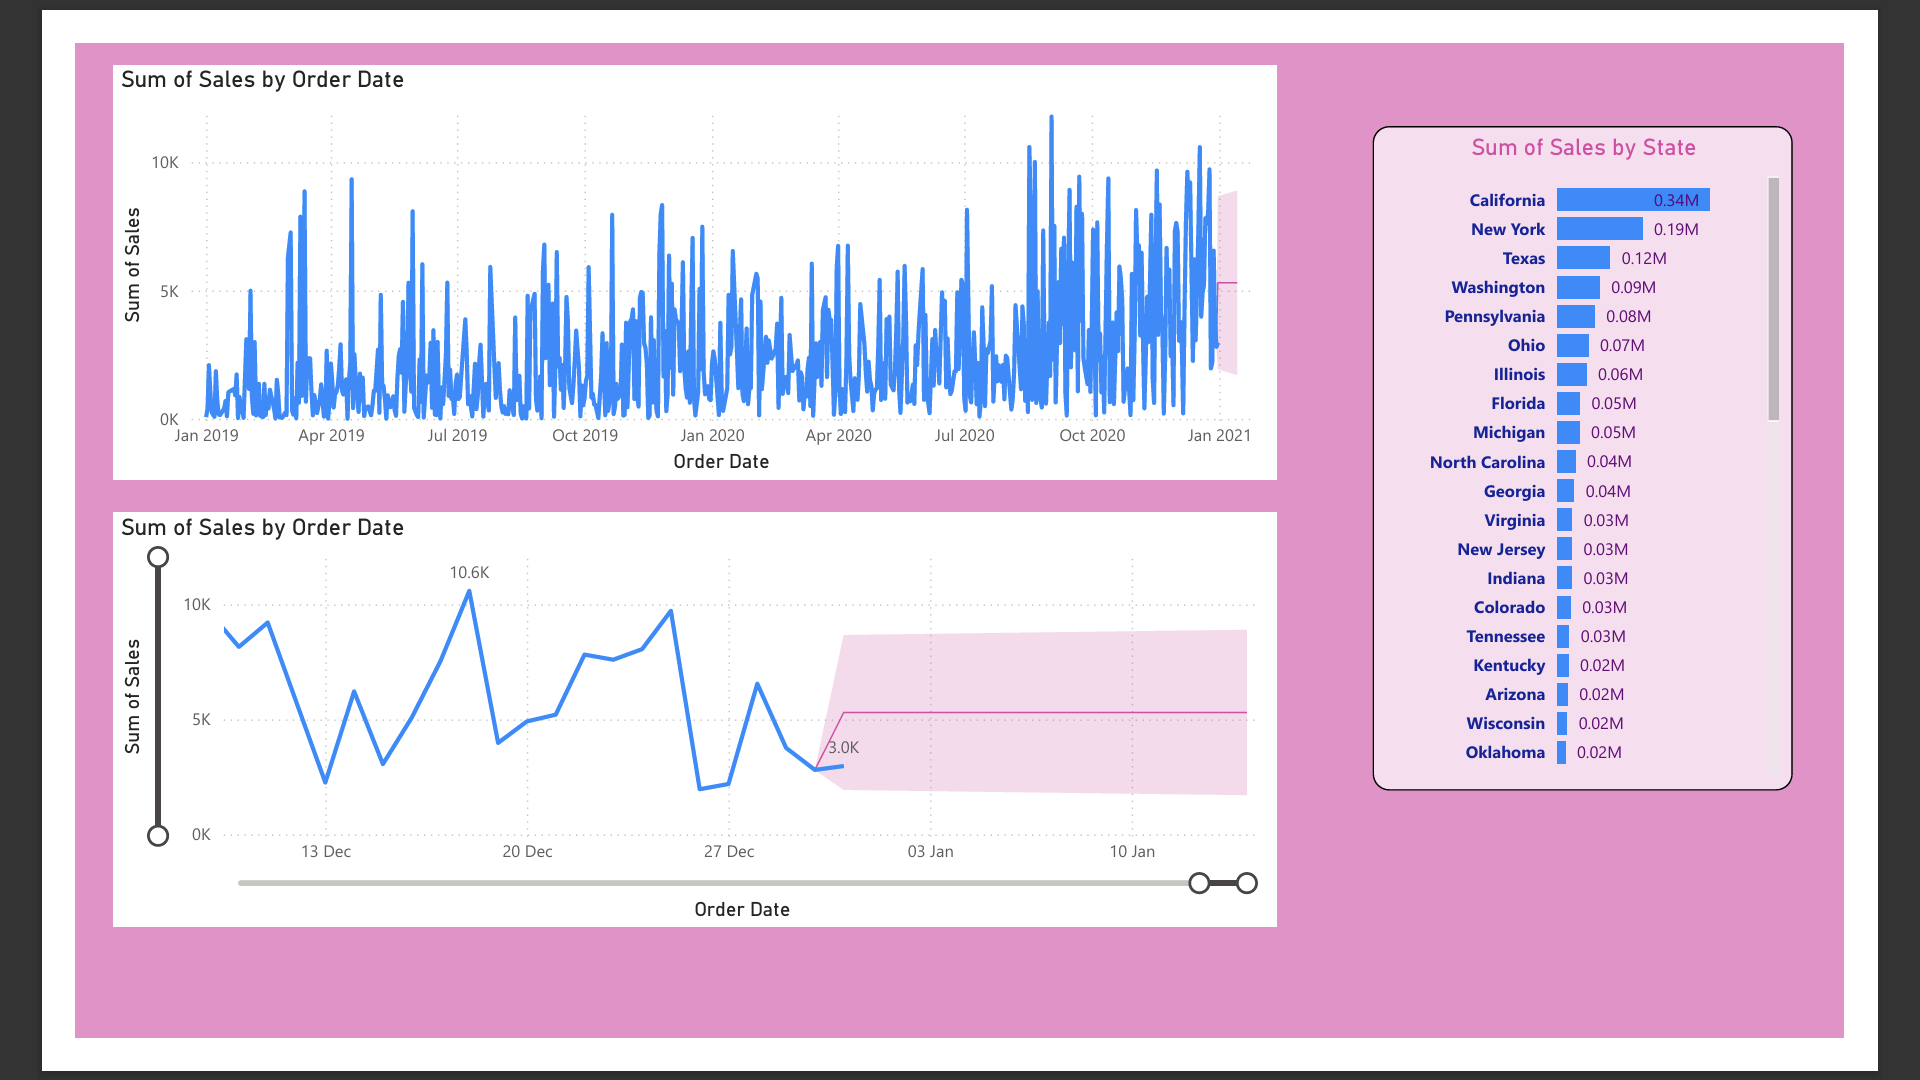

The page's visual inventory and layout, read from the dashboard file:
{"tool":"powerbi","page":{"name":"Page 2","canvas":[1280,720],"ordinal":1},"visuals":[{"type":"lineChart","fields":{"Y":["Sum(SuperStore_Sales_Dataset.Sales)"],"Category":["SuperStore_Sales_Dataset.Order Date"]},"box":[27.5,16.2,842.5,300],"z":0},{"type":"lineChart","fields":{"Y":["Sum(SuperStore_Sales_Dataset.Sales)"],"Category":["SuperStore_Sales_Dataset.Order Date"]},"box":[27.5,340,842.5,300],"z":1000},{"type":"barChart","fields":{"Y":["Sum(SuperStore_Sales_Dataset.Sales)"],"Category":["SuperStore_Sales_Dataset.State"]},"box":[938.8,60,303.8,481.2],"z":2000}]}

Visuals, with their boxes in screenshot pixels (x1, y1, x2, y2), scaled from the page's 1280x720 canvas onto the 1920x1080 screenshot:
lineChart - Sum(SuperStore_Sales_Dataset.Sales) x SuperStore_Sales_Dataset.Order Date: (x1=41, y1=24, x2=1305, y2=474)
lineChart - Sum(SuperStore_Sales_Dataset.Sales) x SuperStore_Sales_Dataset.Order Date: (x1=41, y1=510, x2=1305, y2=960)
barChart - Sum(SuperStore_Sales_Dataset.Sales) x SuperStore_Sales_Dataset.State: (x1=1408, y1=90, x2=1864, y2=812)
